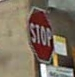stop: (24, 4, 56, 63)
